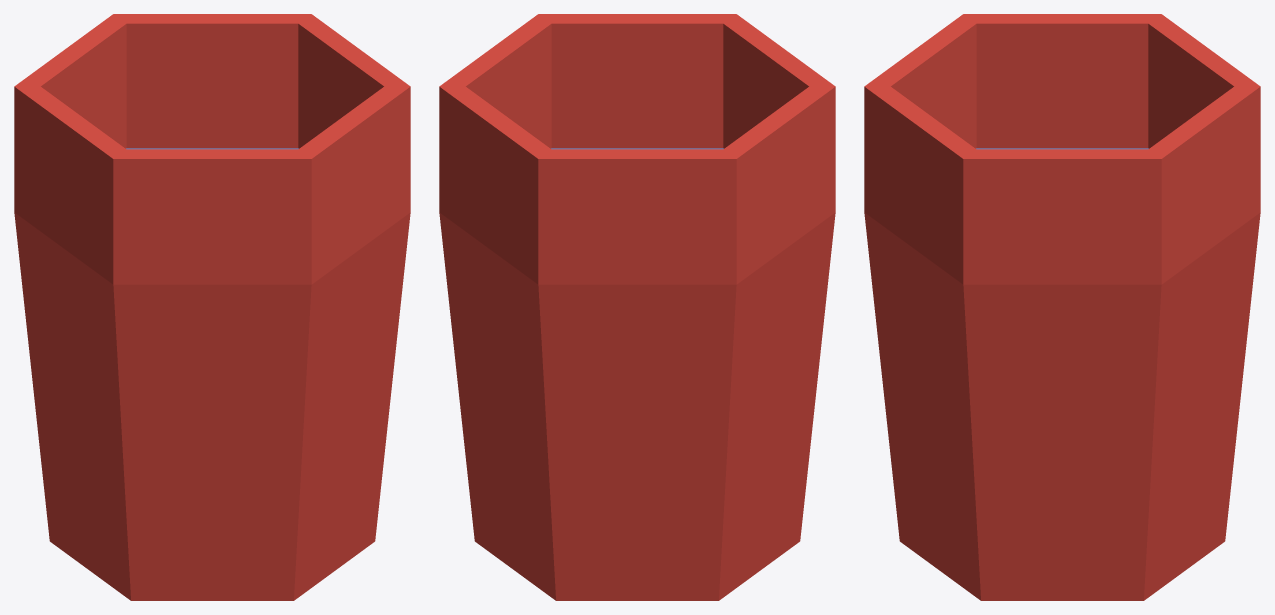
Rendered from Glass with Water.fbx.
The picture shows the model from 3 angles, left to right: view 1: azimuth 30°, elevation 25°; view 2: azimuth 150°, elevation 25°; view 3: azimuth 270°, elevation 25°; orthographic projection.
Visible parts, largest first — view 1: Glass with Water; view 2: Glass with Water; view 3: Glass with Water.
Boxes of the visible parts, box(x1,y1,x2,y2) form: Glass with Water: box(14, 14, 410, 600); Glass with Water: box(439, 14, 835, 600); Glass with Water: box(864, 14, 1260, 600).
Bounding box in the file's own units: 14.55 × 21.28 × 16.8.
